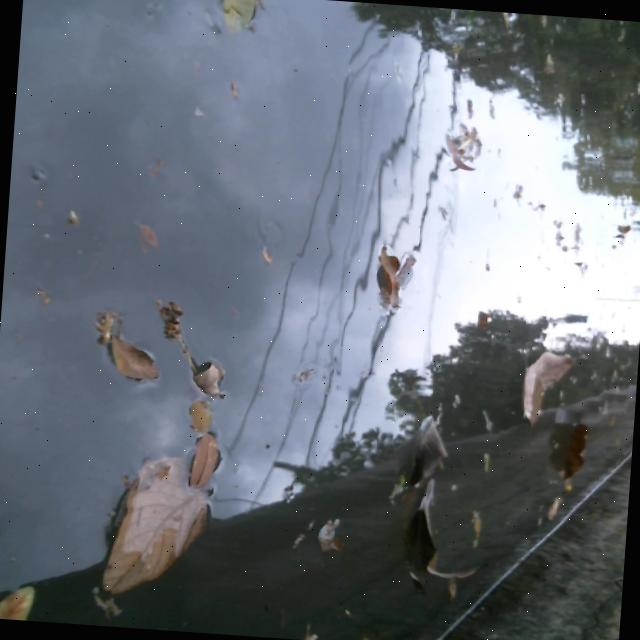Big-leaf: (94, 461, 211, 594), (395, 479, 476, 595), (506, 350, 583, 427), (397, 412, 454, 488), (548, 419, 599, 495)
Small-leaf: (99, 320, 164, 387), (436, 122, 491, 182), (367, 245, 411, 314), (157, 290, 191, 362), (294, 514, 346, 561), (180, 435, 224, 487), (184, 355, 235, 399), (210, 0, 266, 35), (0, 579, 43, 621), (176, 399, 221, 432), (122, 220, 168, 252), (607, 218, 634, 249)
